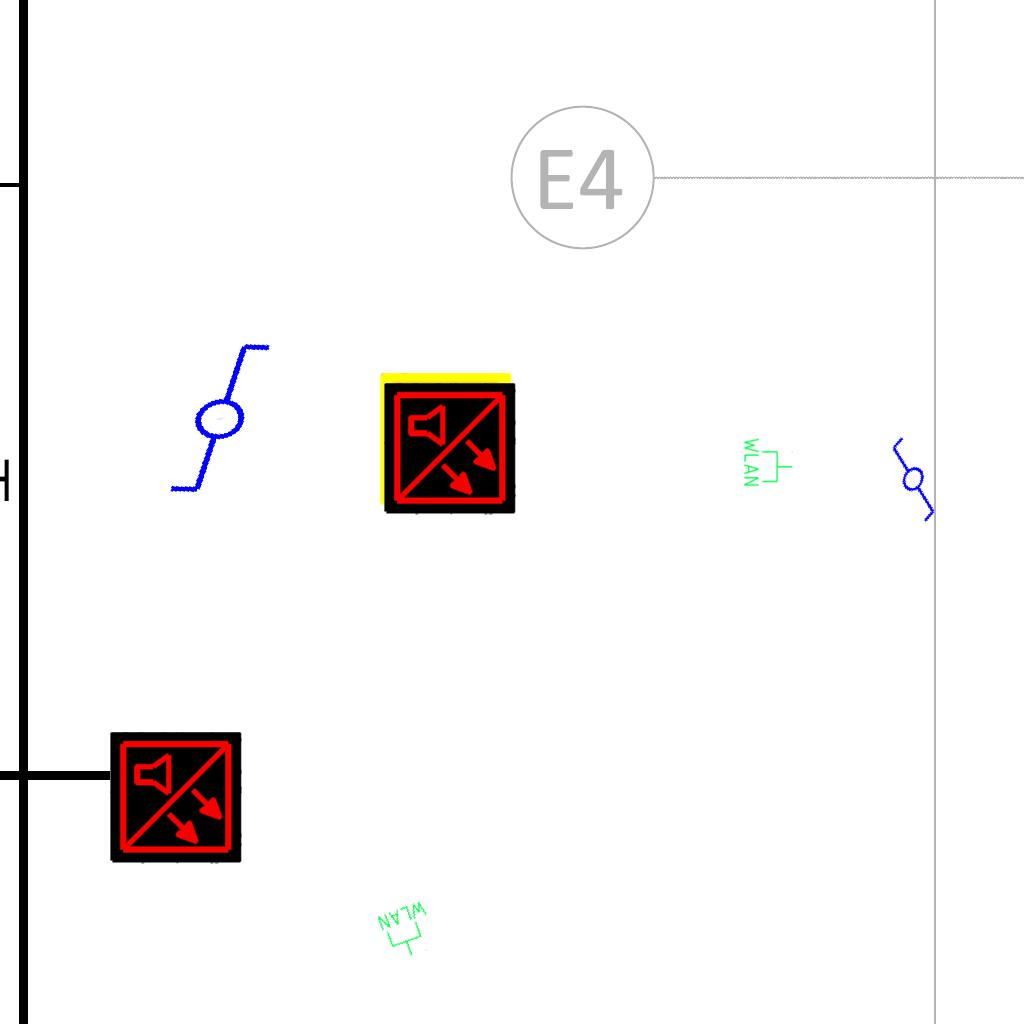NAM-Nichtautomatischer_Melder: (380, 373, 512, 505)
OKW_Multisensormelder_(Kombination_optischer_Rauch-Kahlenmonoxid_Waerme-Melder): (110, 732, 242, 864), (384, 383, 516, 515)
WLAN: (374, 897, 442, 965), (742, 436, 794, 488)
Wechselschalter: (117, 330, 306, 508), (866, 425, 966, 527)
